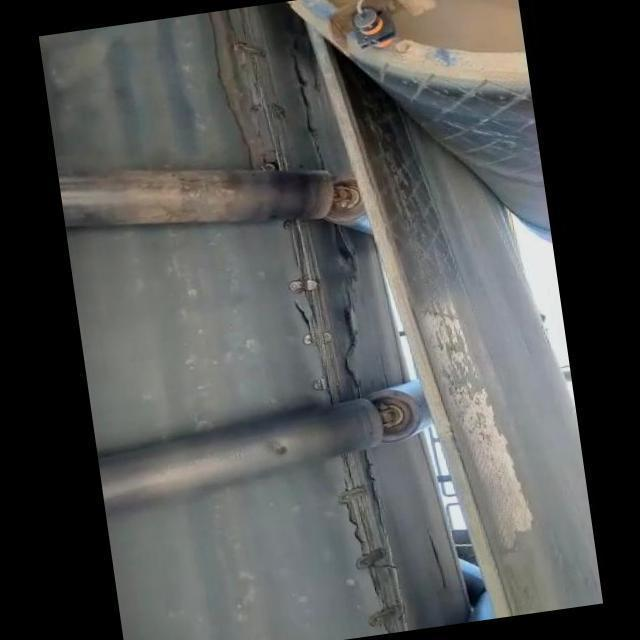Tear: (208, 5, 326, 178), (265, 216, 370, 407), (334, 447, 414, 630)
